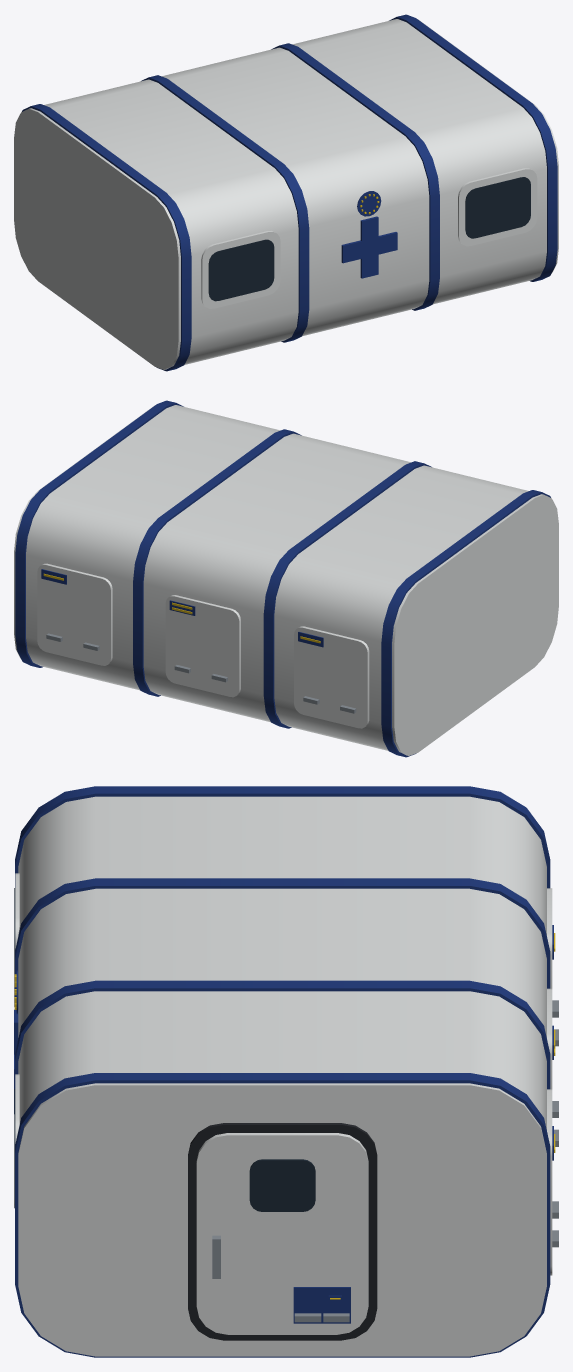
The model's file is mo4_shell.obj.
The picture shows the model from 3 angles, top to bottom: view 1: azimuth 30°, elevation 25°; view 2: azimuth 150°, elevation 25°; view 3: azimuth 270°, elevation 25°; orthographic projection. The views are drawn at different scales.
Parts seen in each view (by area): view 1: mo4_shell; view 2: mo4_shell; view 3: mo4_shell.
Part boxes in pixels (x1,y1,x2,y2): mo4_shell: (14,14,558,371); mo4_shell: (14,400,558,757); mo4_shell: (14,786,558,1357).
Bounding box in the file's own units: 3.29 × 1.39 × 2.48.
